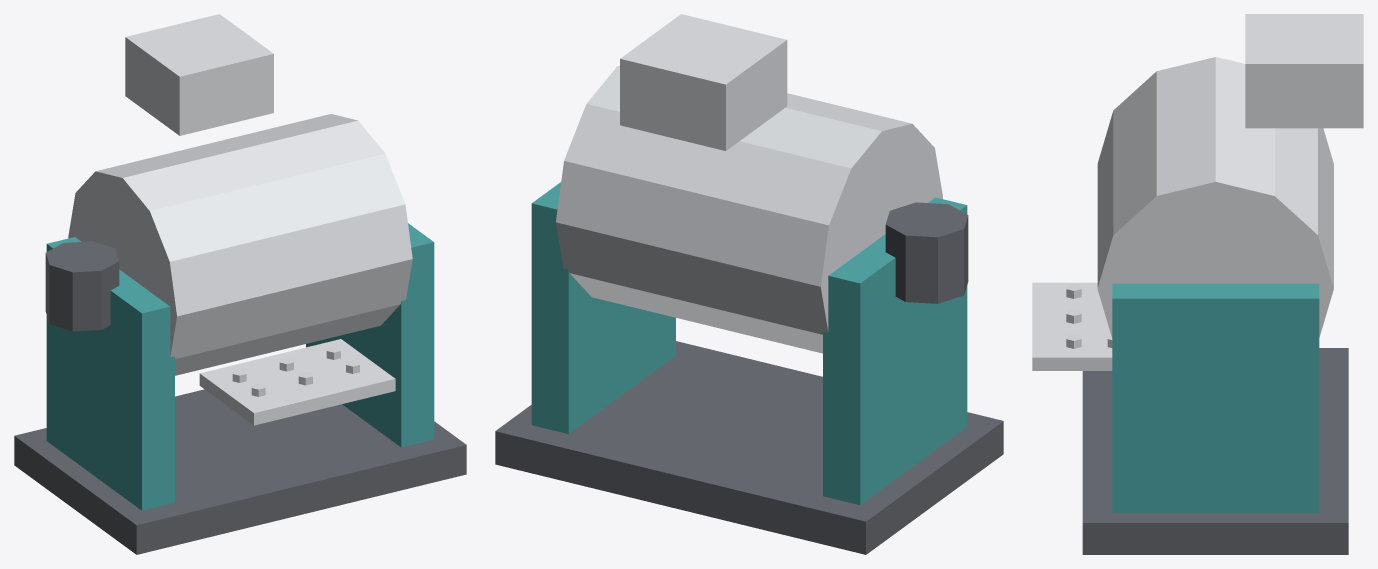
File: chocolate-and-confectionery-factory-dusting-drum-d529ebba__36781.glb
3 renders of one model, left to right at view 1: azimuth 30°, elevation 25°; view 2: azimuth 150°, elevation 25°; view 3: azimuth 270°, elevation 25°, orthographic. The views are drawn at different scales.
Visible parts, largest first — view 1: dusting-drum, drum-dust/steel; view 2: dusting-drum, drum-dust/steel; view 3: dusting-drum, drum-dust/steel.
Boxes of the visible parts, x1,y1,x2,y2 form: dusting-drum: (14, 14, 466, 554); drum-dust/steel: (68, 114, 412, 375); dusting-drum: (495, 14, 1003, 554); drum-dust/steel: (556, 66, 942, 353); dusting-drum: (1032, 14, 1363, 554); drum-dust/steel: (1097, 57, 1333, 338).
Size of the model in its own units: 1.51 by 1.6 by 1.12.
